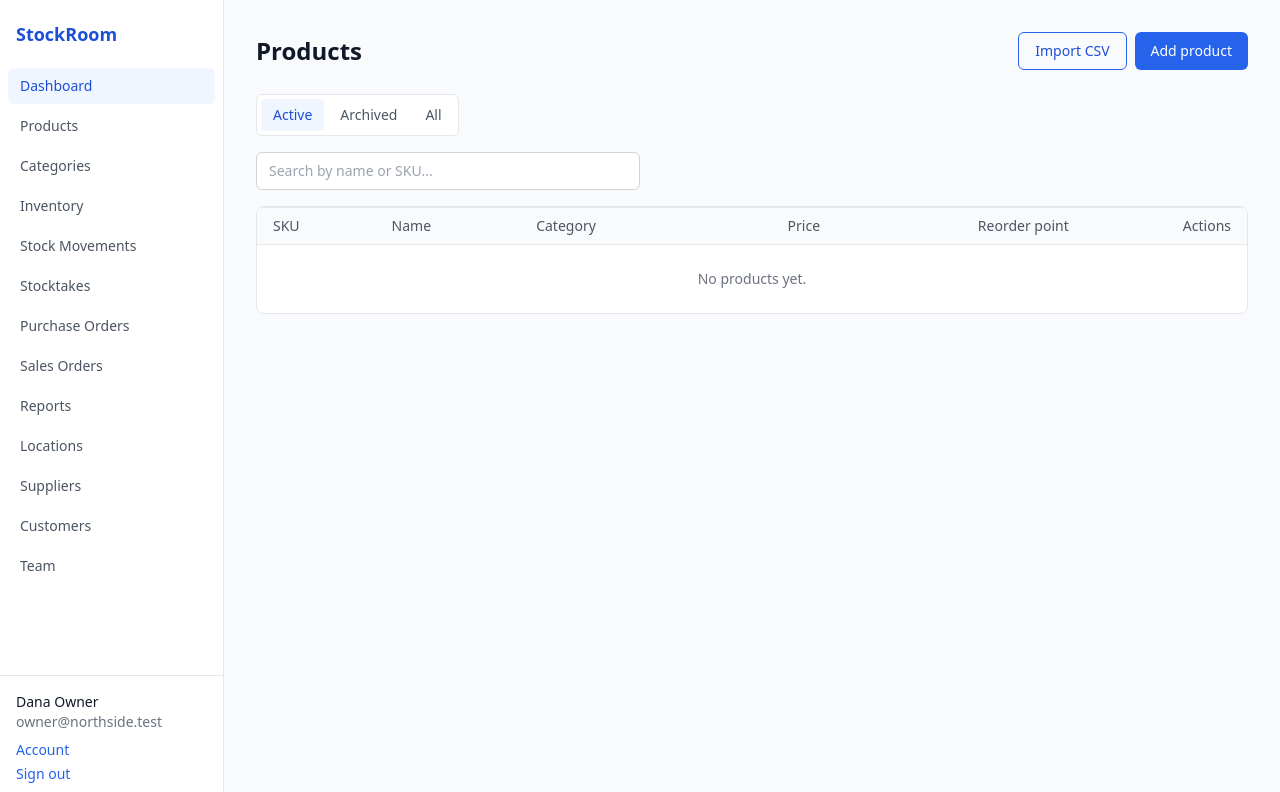
ProductsPage create › shows the Cost field to an Owner but not to Staff
Check: the text "No products yet." is shown, box [257,244,1247,313]
What coordinates should you click on to do the following:
click the button "Add product"
I would click on:
 (1191, 51)
Its box is [1135,32,1248,70].
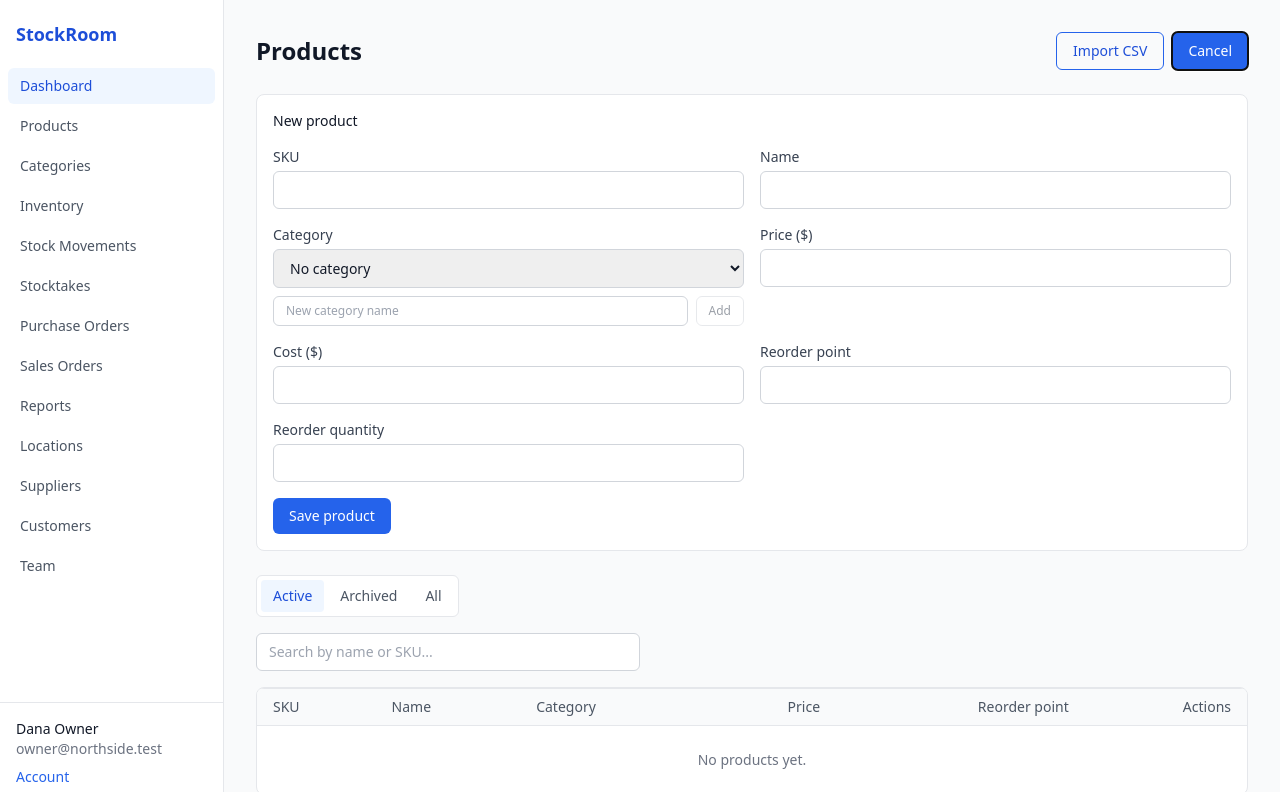
Check: the number field labelled "Cost ($)" is shown, box [273,366,744,404]
